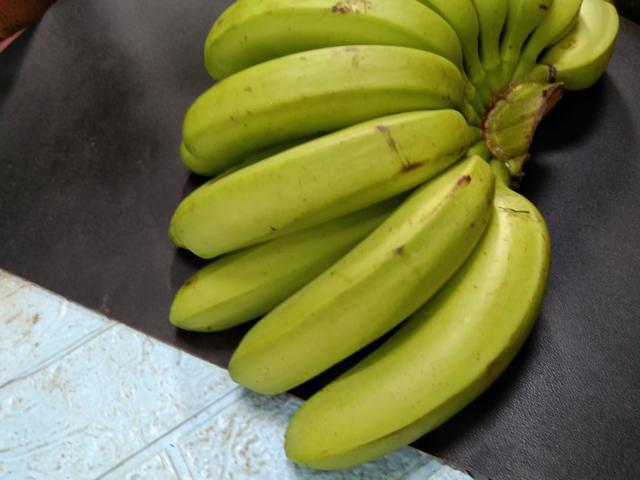freshunripe: (277, 189, 564, 476), (162, 39, 462, 171), (155, 217, 343, 335)
unripe: (164, 104, 478, 250), (181, 0, 455, 67)
